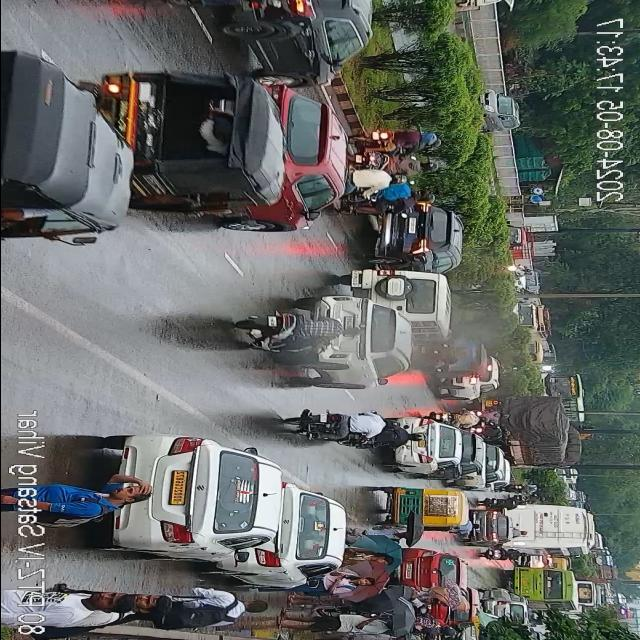2-wheelers: (238, 312, 362, 352), (282, 411, 394, 436), (347, 123, 439, 151), (350, 154, 442, 178), (345, 164, 405, 194), (354, 194, 429, 216), (337, 428, 425, 446), (426, 407, 490, 428), (477, 548, 527, 562), (499, 264, 533, 280), (499, 494, 546, 503), (511, 480, 537, 494)
auto: (0, 44, 148, 230), (103, 61, 284, 213), (378, 481, 463, 531), (543, 367, 583, 421), (454, 342, 486, 376)
bus: (512, 564, 578, 614)
car: (108, 433, 282, 585), (260, 76, 348, 230), (236, 0, 372, 87), (238, 488, 343, 589), (310, 280, 408, 384), (381, 196, 463, 268), (396, 417, 460, 475), (399, 548, 461, 594), (472, 84, 526, 136), (439, 362, 502, 402), (468, 432, 507, 491), (428, 584, 480, 628), (482, 580, 528, 628), (468, 504, 514, 548)
pedestrian: (32, 578, 142, 636), (36, 473, 144, 528), (121, 588, 268, 626), (282, 608, 410, 640), (323, 572, 378, 594), (292, 631, 408, 640), (345, 547, 401, 563)
truck: (497, 388, 567, 468), (510, 302, 548, 332), (502, 225, 534, 259)
